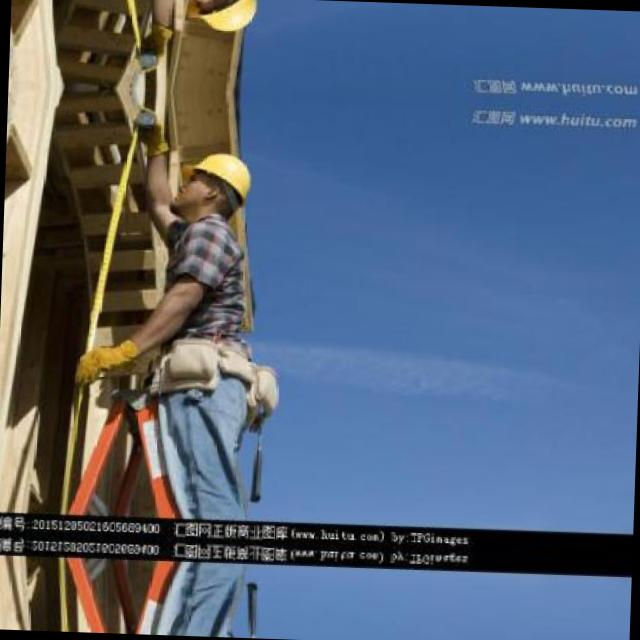helmet: (166, 146, 255, 226), (173, 0, 262, 37)
